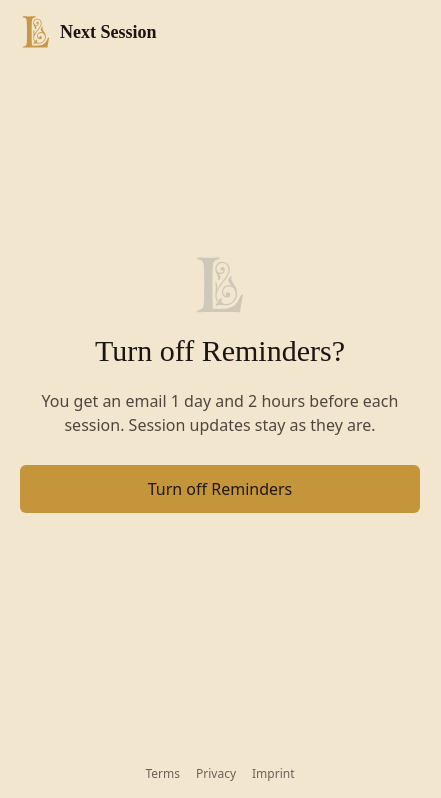
Test case: RemindersOff › keeps the button for another try when the link is rate limited
Click the button "Turn off Reminders" at (220, 489), box [20, 465, 420, 513]
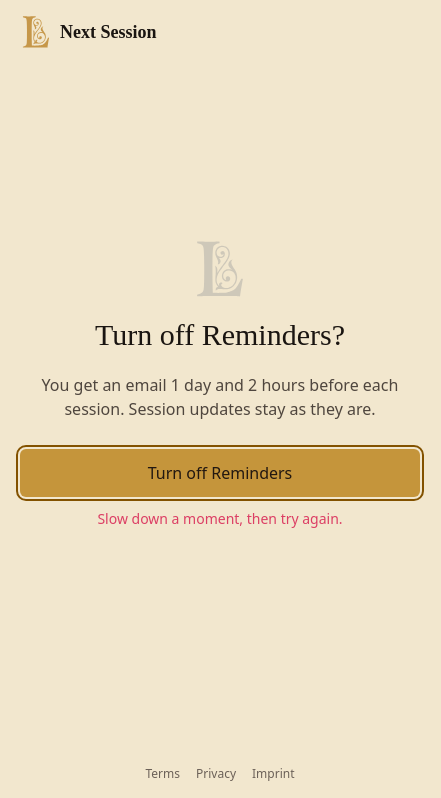
Expected: the message reads "Slow down a moment, then try again.", [97, 509, 343, 528]
Click the button "Turn off Reminders" at (220, 473), box [20, 449, 420, 497]
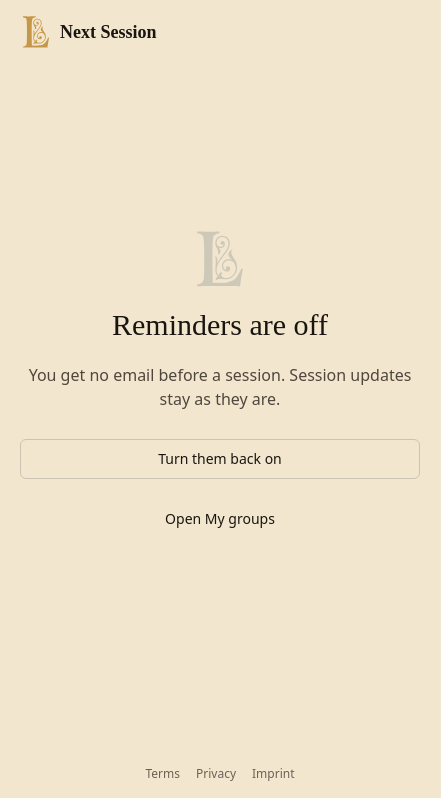
Expected: the heading "Reminders are off" is shown, [112, 307, 328, 343]
